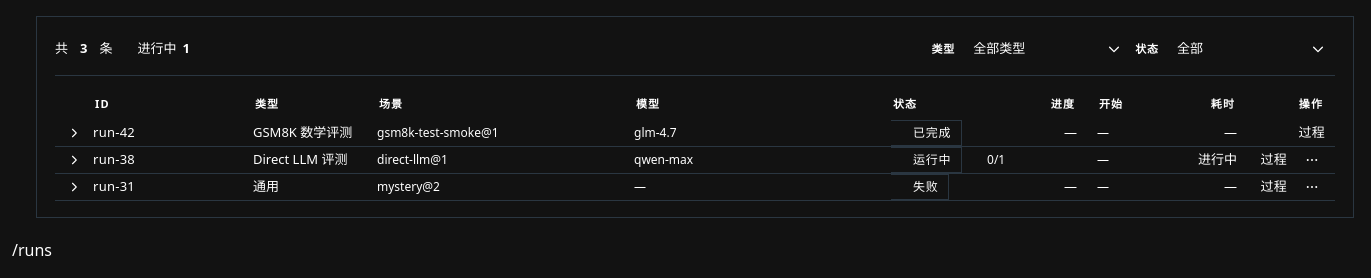
Test: RunsOverviewPage › 展示类型与模型列，点击行跳转所属套件结果页
Check: the text "GSM8K 数学评测" is shown, box 243,120 -> 367,147
Check: the text "Direct LLM 评测" is shown, box 243,147 -> 367,174
Click the button "run-42".
click(114, 133)  # box 93,123 -> 135,143
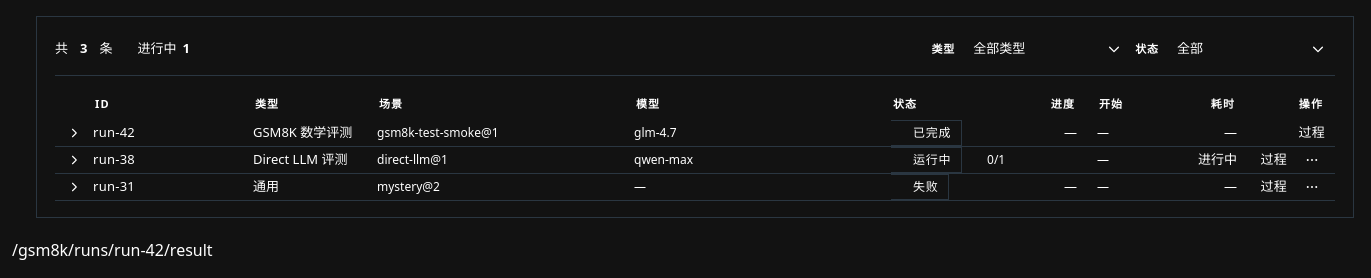
Check: the text with test id "location" reads "/gsm8k/runs/run-42/result", box 12,239 -> 213,261
Click the button "run-31".
click(114, 187)  # box 93,177 -> 135,197
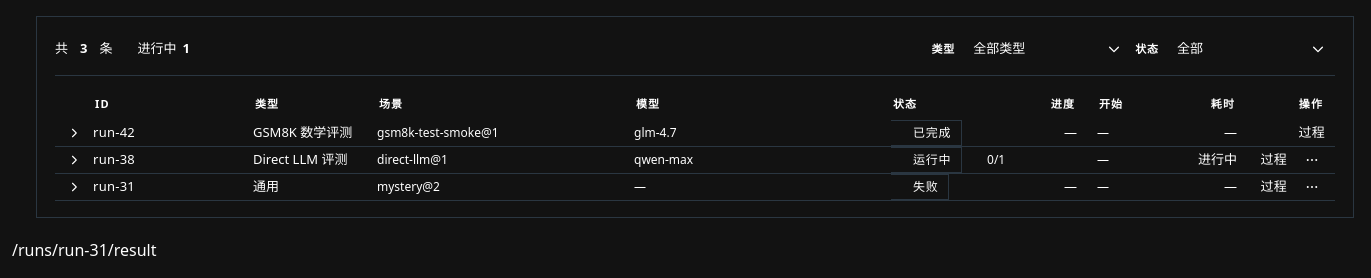
Check: the text with test id "location" reads "/runs/run-31/result", box 12,239 -> 156,261
